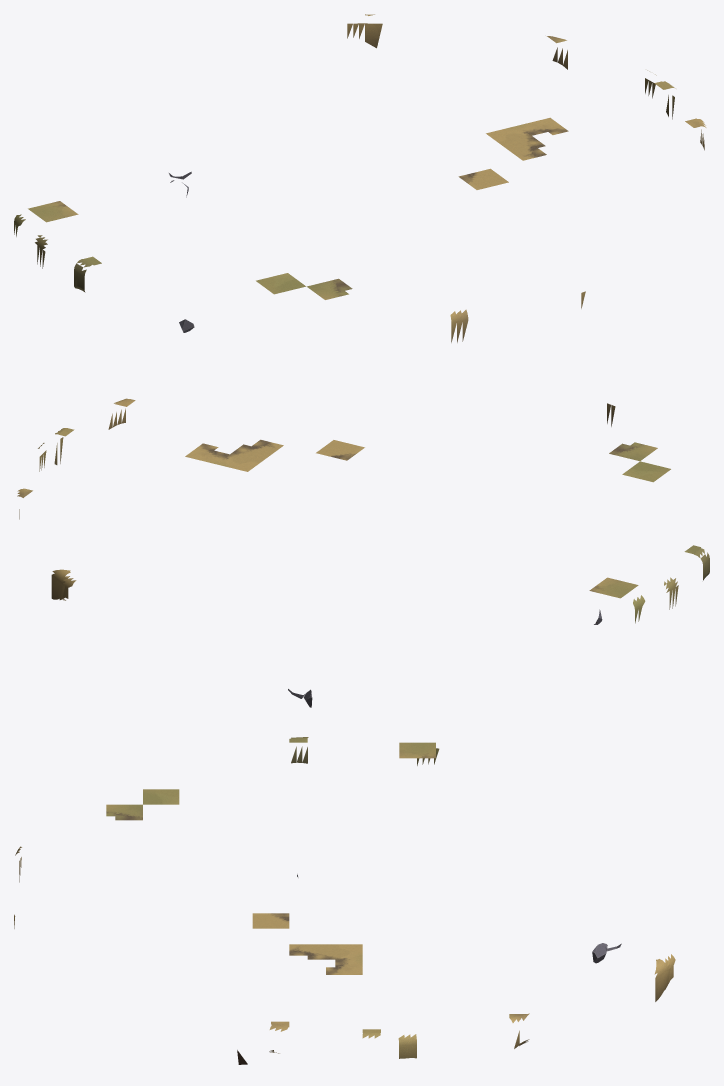
3 views of the same model, one above another, from view 1: azimuth 30°, elevation 25°; view 2: azimuth 150°, elevation 25°; view 3: azimuth 270°, elevation 25° (orthographic). The views are drawn at different scales.
Parts seen in each view (by area): view 1: Grass_2_-1_0, Grass_1_-2_0_010, Grass_-3_-3_0_000, Grass_-5_0_0_110, Grass_-3_-4_0_110; view 2: Grass_2_-1_0, Grass_-3_-3_0_000, Grass_-5_0_0_110, Grass_1_-2_0_010, Grass_-3_-4_0_110; view 3: Grass_2_-1_0, Grass_-5_0_0_110, Grass_1_-2_0_010, Grass_-3_-4_0_110, Grass_-3_-3_0_000.
Boxes of the visible parts, x1,y1,x2,y2 form: Grass_2_-1_0: (486,117,568,160); Grass_1_-2_0_010: (458,168,508,189); Grass_-3_-3_0_000: (256,273,305,294); Grass_-5_0_0_110: (28,201,78,222); Grass_-3_-4_0_110: (307,278,352,299); Grass_2_-1_0: (185,439,283,471); Grass_-3_-3_0_000: (622,461,670,482); Grass_-5_0_0_110: (589,577,638,598); Grass_1_-2_0_010: (316,440,364,460); Grass_-3_-4_0_110: (609,442,657,461); Grass_2_-1_0: (289,944,362,974); Grass_-5_0_0_110: (399,742,435,758); Grass_1_-2_0_010: (252,913,289,928); Grass_-3_-4_0_110: (106,804,142,820); Grass_-3_-3_0_000: (143,789,179,804).
Bounding box in the file's own units: 628 × 103 × 608.
Materials: 23 (23 with a texture image).
